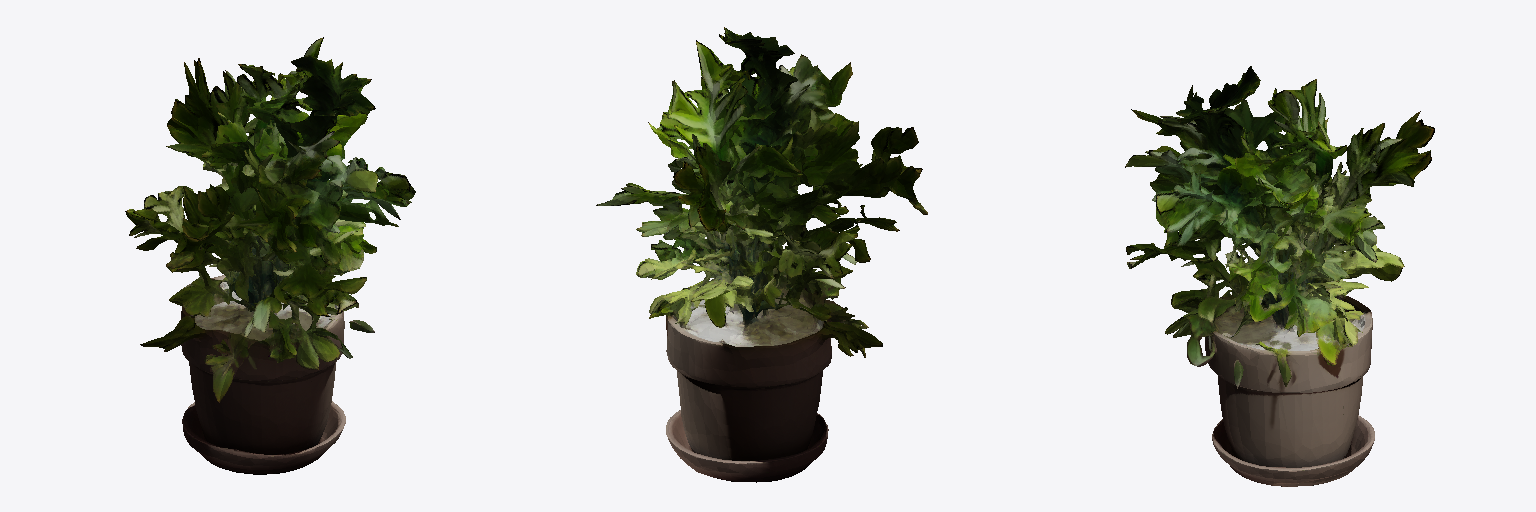
3 renders of one model, left to right at view 1: azimuth 30°, elevation 25°; view 2: azimuth 150°, elevation 25°; view 3: azimuth 270°, elevation 25°, orthographic.
Parts seen in each view (by area): view 1: geometry_0; view 2: geometry_0; view 3: geometry_0.
Part boxes in pixels (left/top/right/bottom): geometry_0: left=125, top=37, right=415, bottom=474; geometry_0: left=596, top=27, right=927, bottom=482; geometry_0: left=1125, top=66, right=1434, bottom=486.
Size of the model in its own units: 0.6496 by 0.9942 by 0.6991.
1 materials, 1 textured.